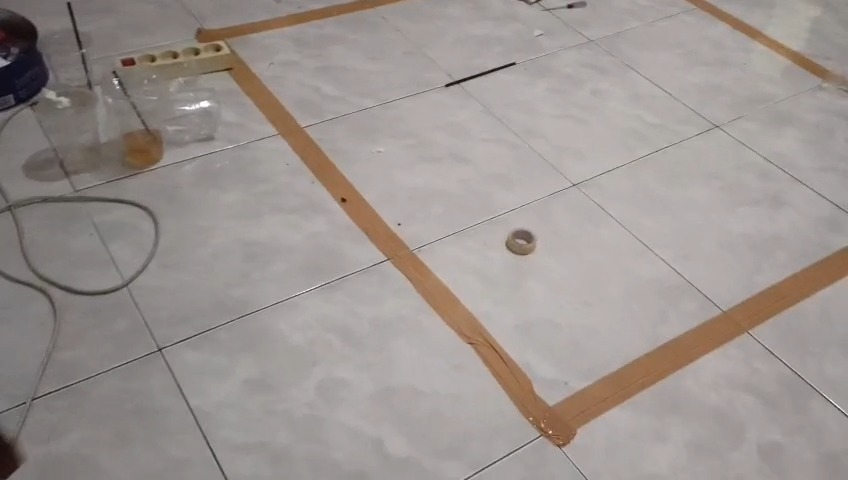floor marking: (229, 55, 847, 445), (687, 0, 847, 83), (197, 0, 400, 41)
